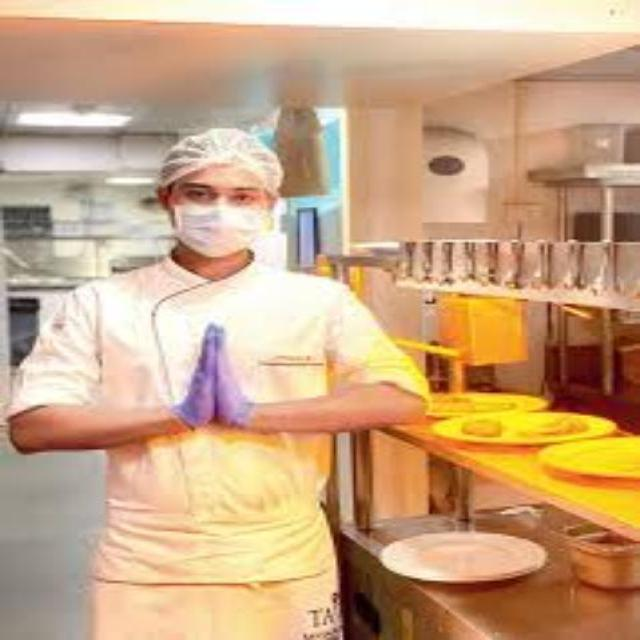gloved_hand: (167, 325, 266, 436)
